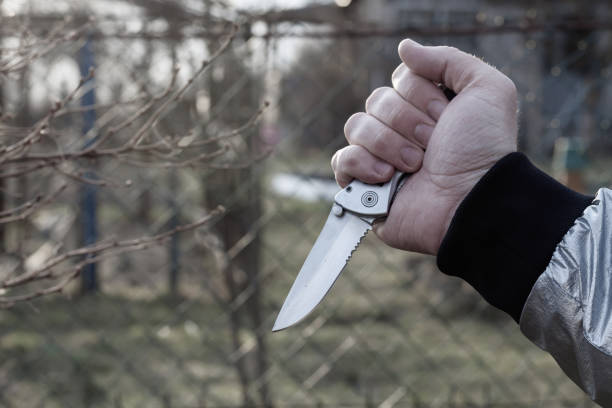knife: (269, 165, 405, 333)
